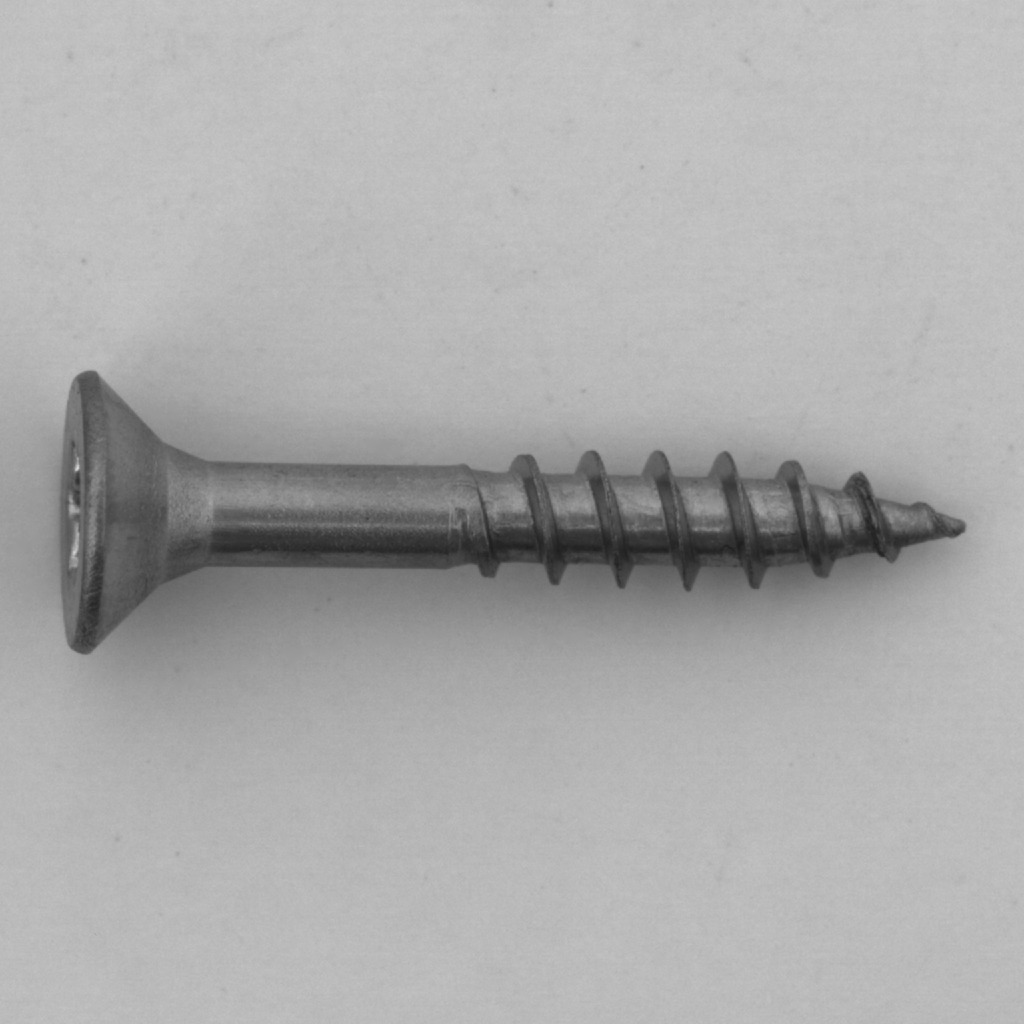good: (26, 358, 990, 664)
